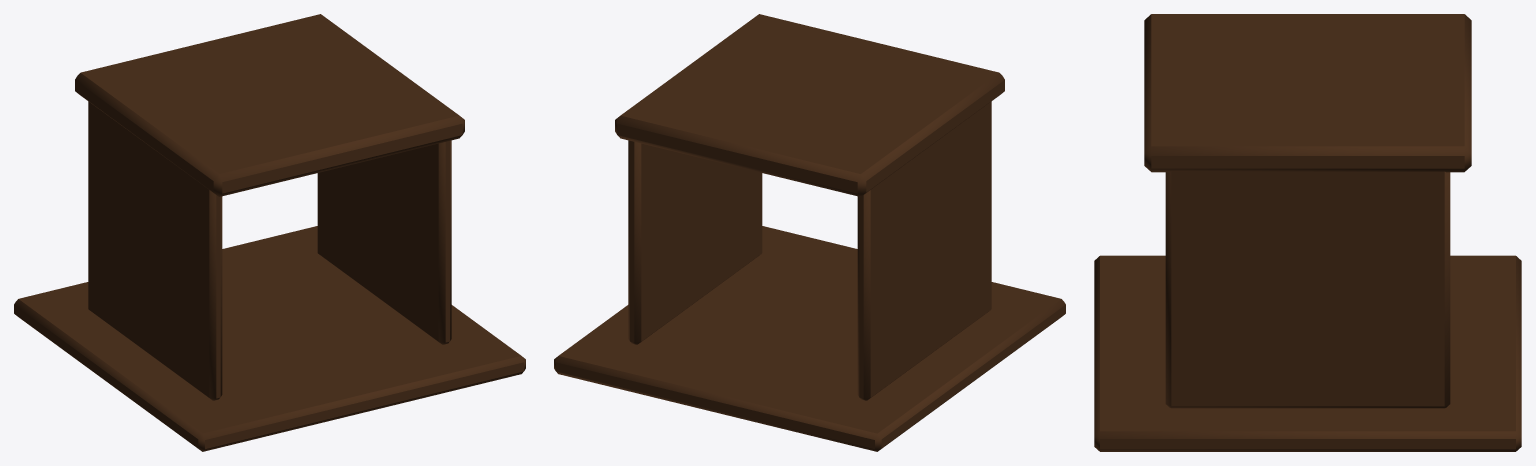
The model's file is post-shoe-bronze.lod1.glb.
3 views of the same model, side by side, from view 1: azimuth 30°, elevation 25°; view 2: azimuth 150°, elevation 25°; view 3: azimuth 270°, elevation 25° (orthographic). The views are drawn at different scales.
Visible parts, largest first — view 1: post_shoe_bronze_Trim • places palette; view 2: post_shoe_bronze_Trim • places palette; view 3: post_shoe_bronze_Trim • places palette.
Part boxes in pixels (left/top/right/bottom): post_shoe_bronze_Trim • places palette: left=14, top=14, right=525, bottom=451; post_shoe_bronze_Trim • places palette: left=554, top=14, right=1065, bottom=451; post_shoe_bronze_Trim • places palette: left=1094, top=14, right=1521, bottom=451.
Size of the model in its own units: 0.3 by 0.22 by 0.3.
Materials: 1 (1 with a texture image).
